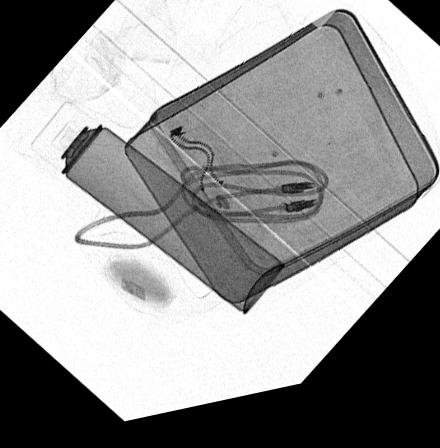Sprayer: (29, 102, 286, 325)
